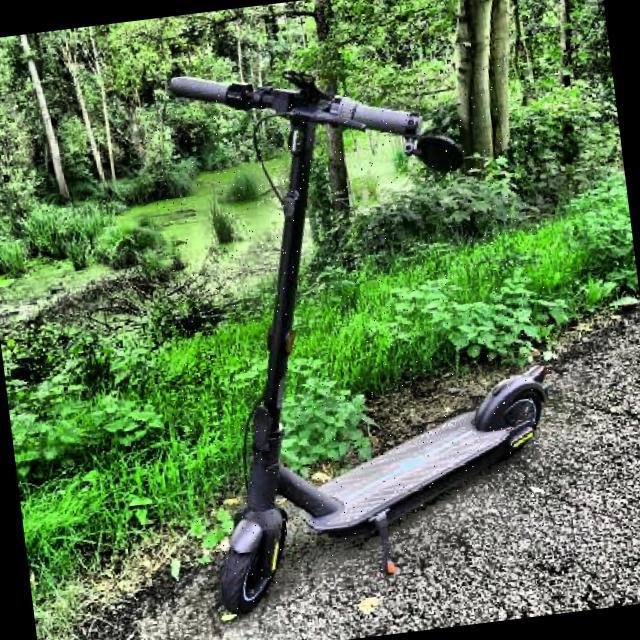bike: (163, 69, 551, 614)
